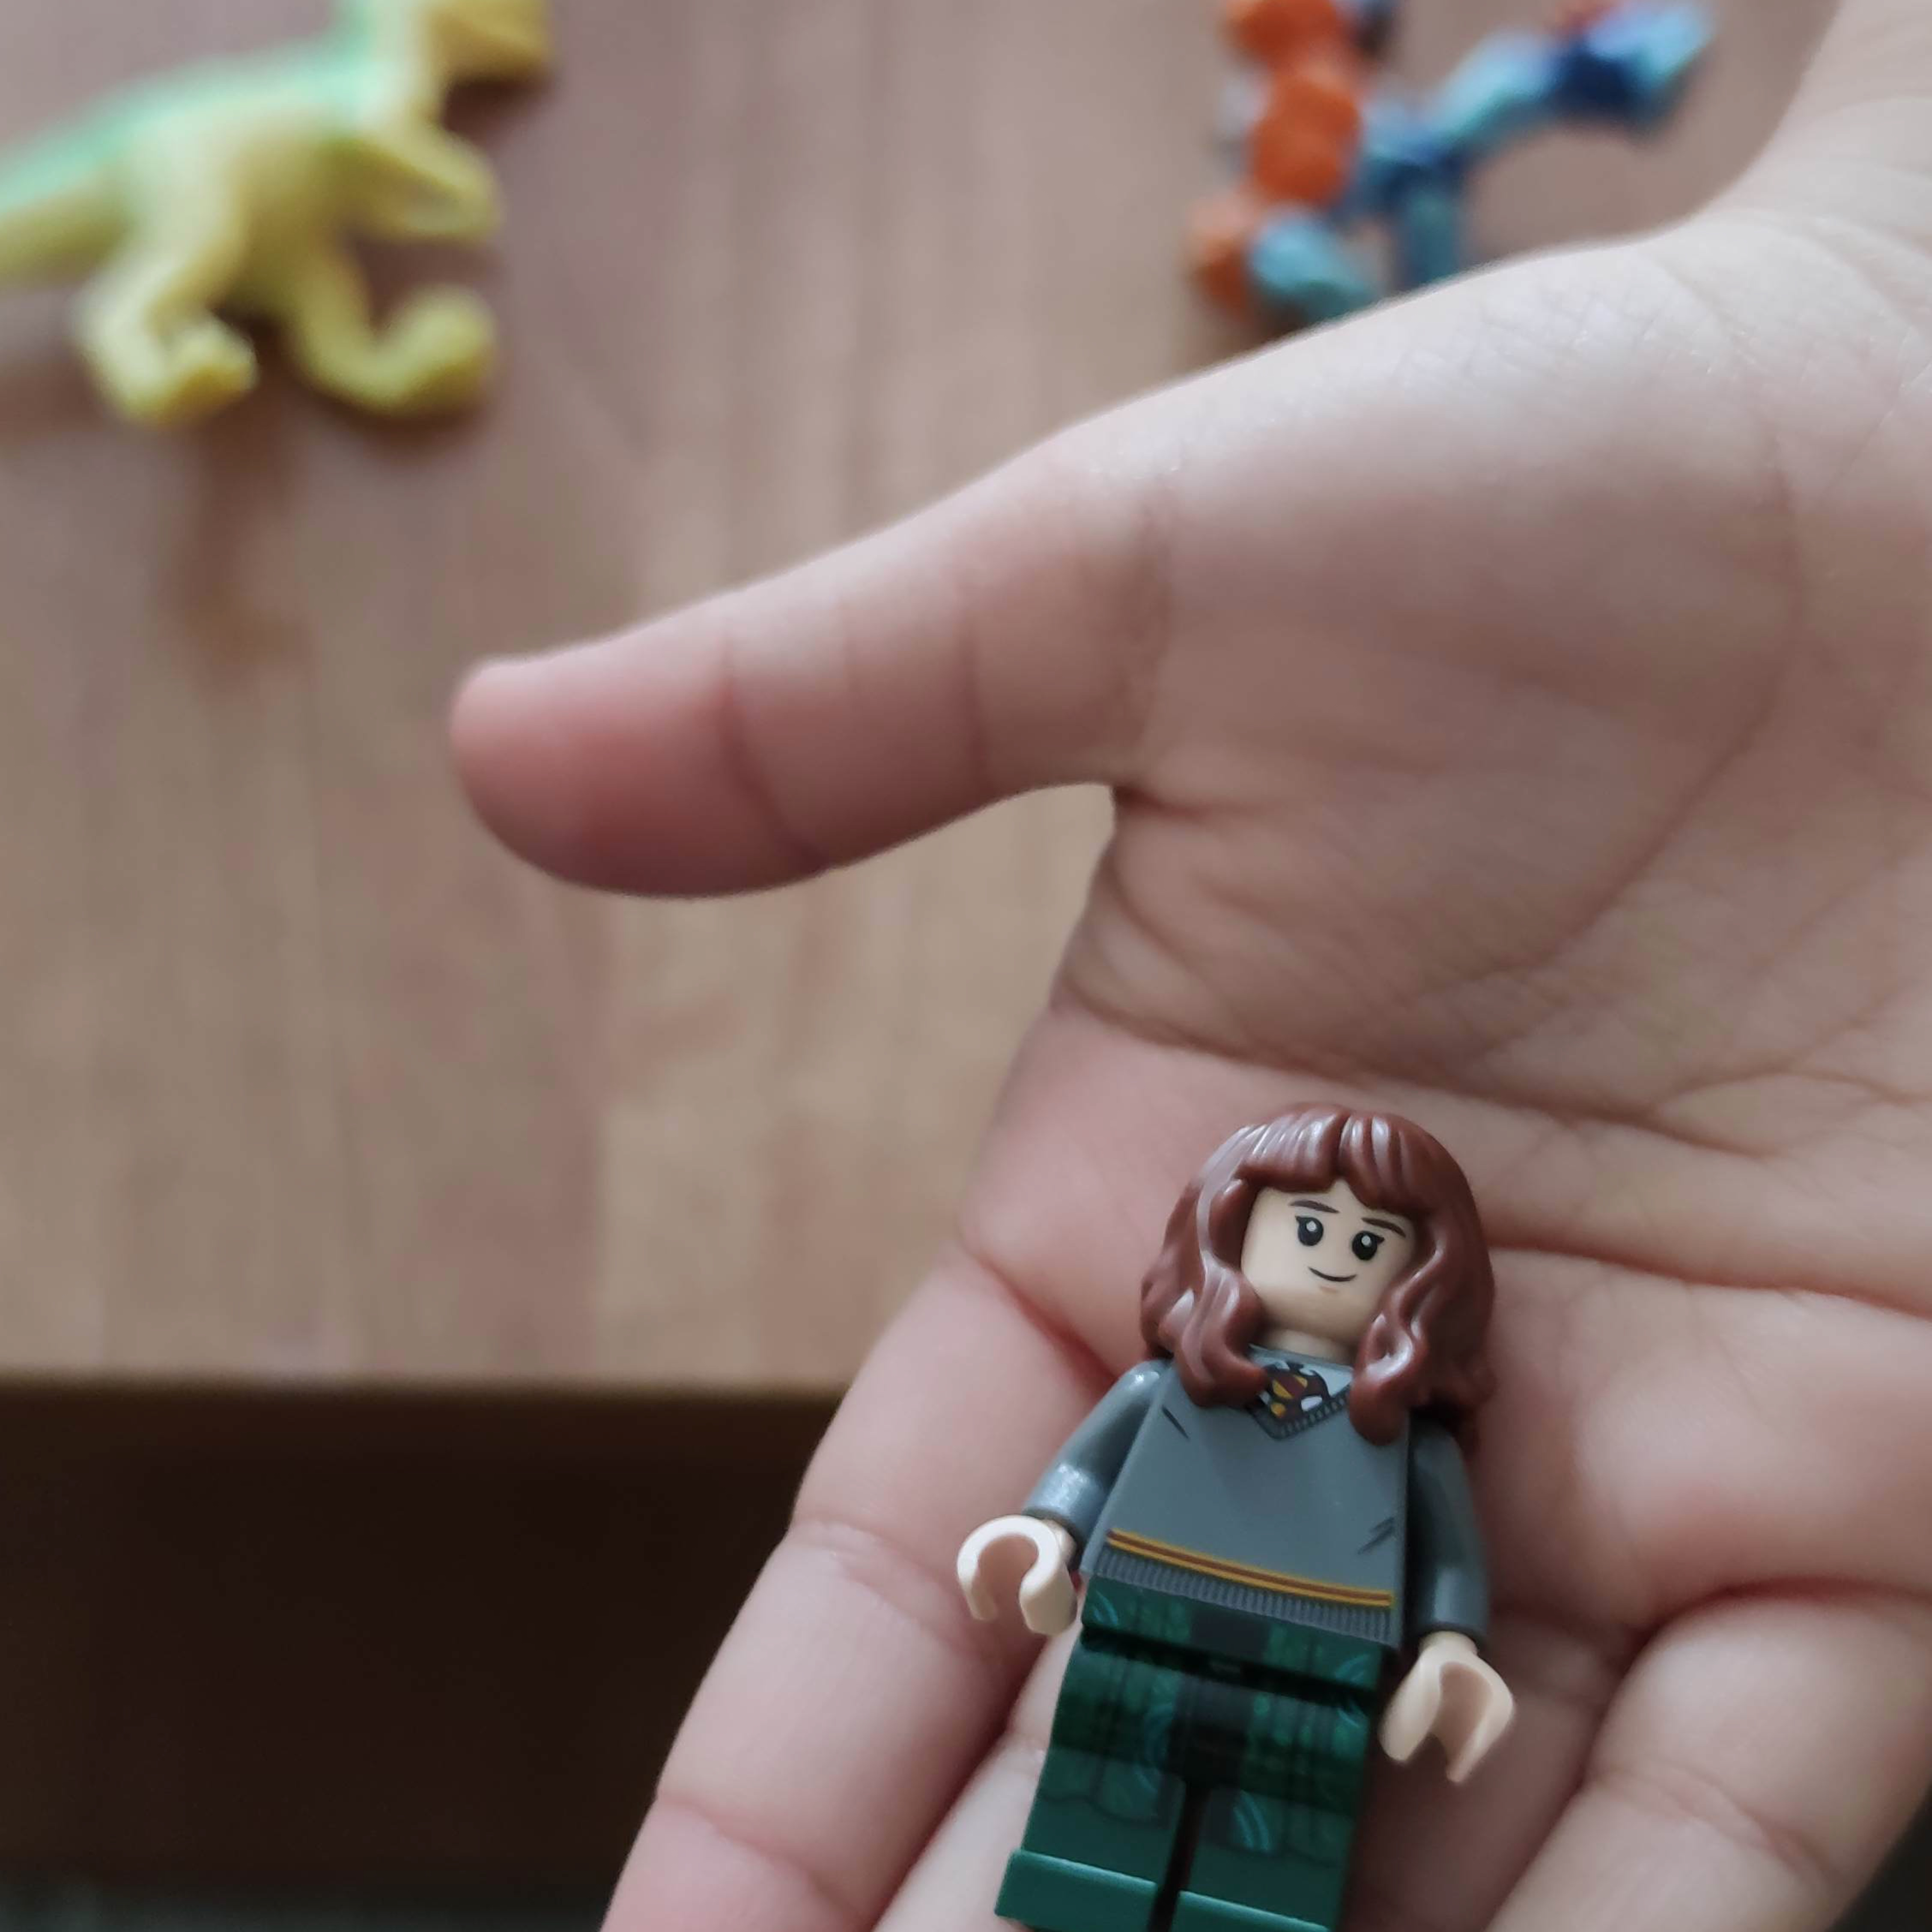lego: (954, 1100, 1514, 1927)
